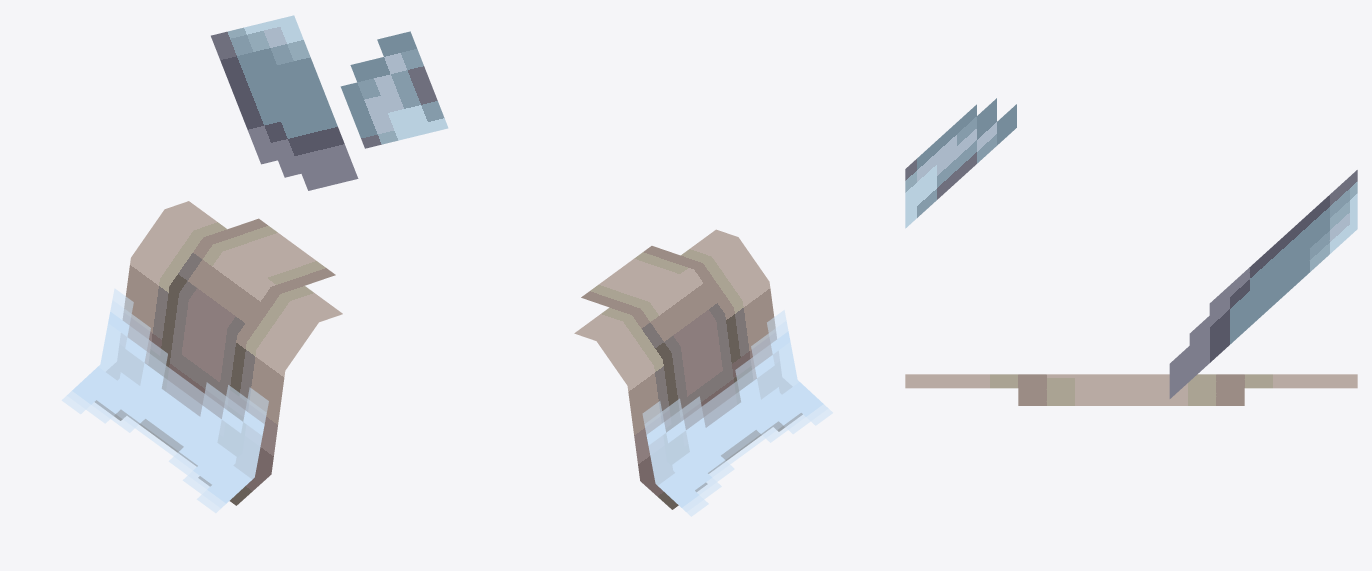
3 views of the same model, side by side, from view 1: azimuth 30°, elevation 25°; view 2: azimuth 150°, elevation 25°; view 3: azimuth 270°, elevation 25° (orthographic). The views are drawn at different scales.
Size of the model in its own units: 1.05 by 1.58 by 1.
Materials: 3 (3 with a texture image).
